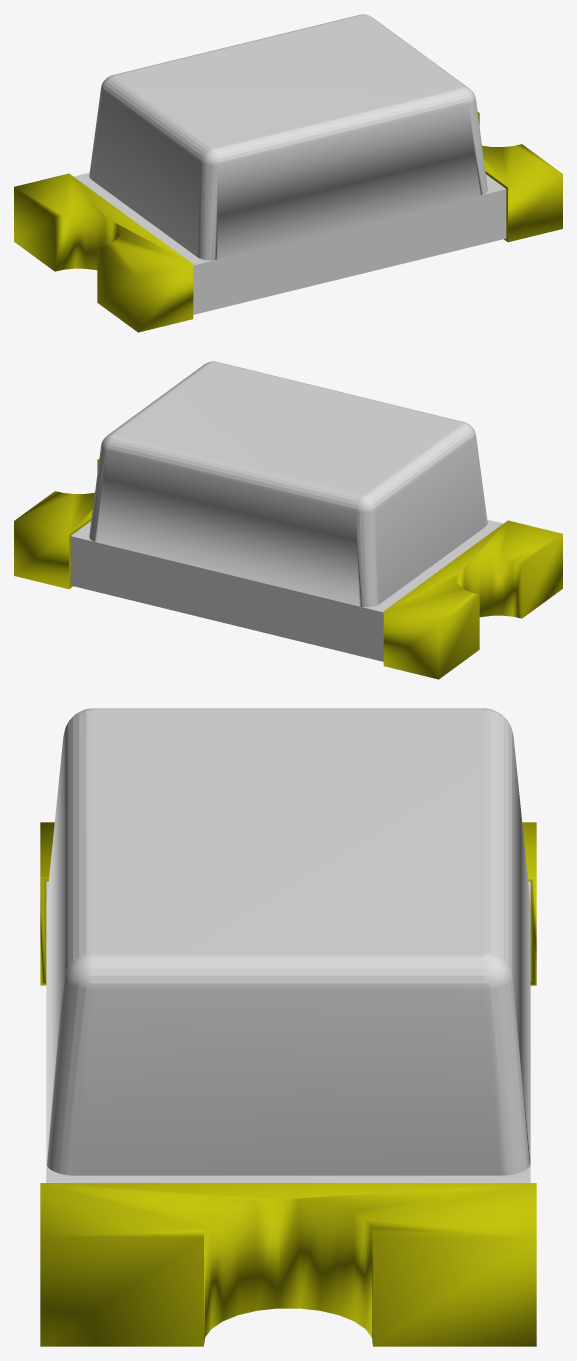
3 views of the same model, one above another, from view 1: azimuth 30°, elevation 25°; view 2: azimuth 150°, elevation 25°; view 3: azimuth 270°, elevation 25° (orthographic). The views are drawn at different scales.
Parts seen in each view (by area): view 1: =>[0:1:1:3]; view 2: =>[0:1:1:3]; view 3: =>[0:1:1:3].
Part boxes in pixels (left/top/right/bottom): =>[0:1:1:3]: left=14, top=14, right=562, bottom=332; =>[0:1:1:3]: left=14, top=361, right=562, bottom=679; =>[0:1:1:3]: left=40, top=708, right=536, bottom=1346.
Bounding box in the file's own units: 0.00162 × 0.00056 × 0.00082.
